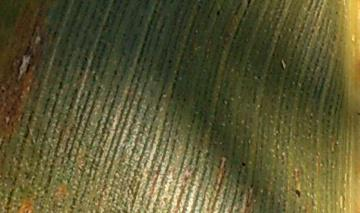tarspot: (161, 55, 178, 67), (292, 185, 303, 198), (237, 157, 247, 170), (213, 5, 222, 18)
